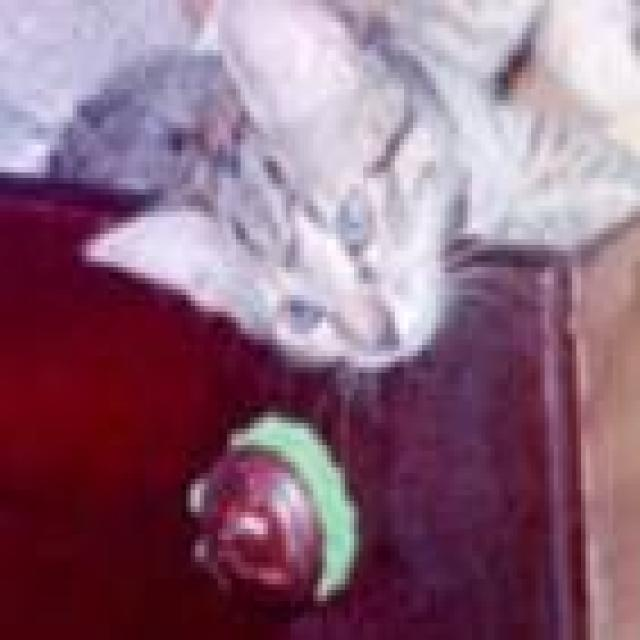cat: (41, 0, 635, 373)
